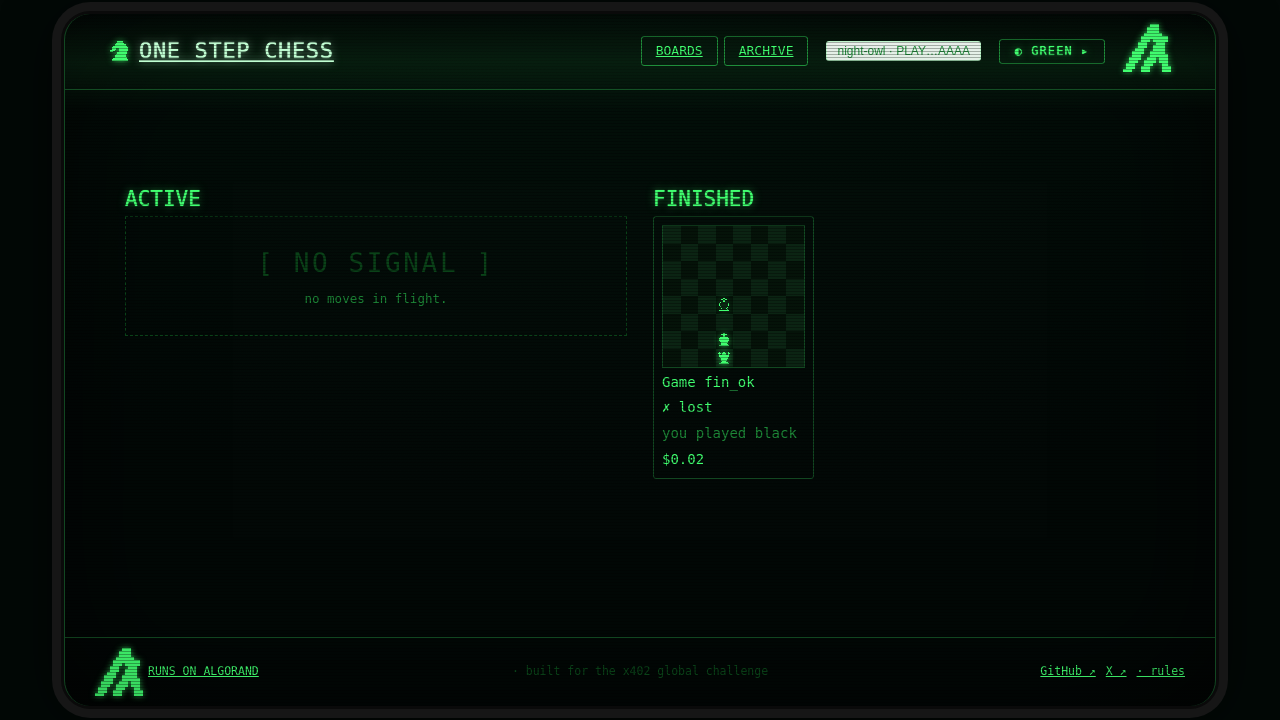
finished_archive_card_and_popover_identify_the_side_you_played
This screenshot has width=1280, height=720.
Click the button with test id "finished-card" at (733,348), box [653,216,814,479]
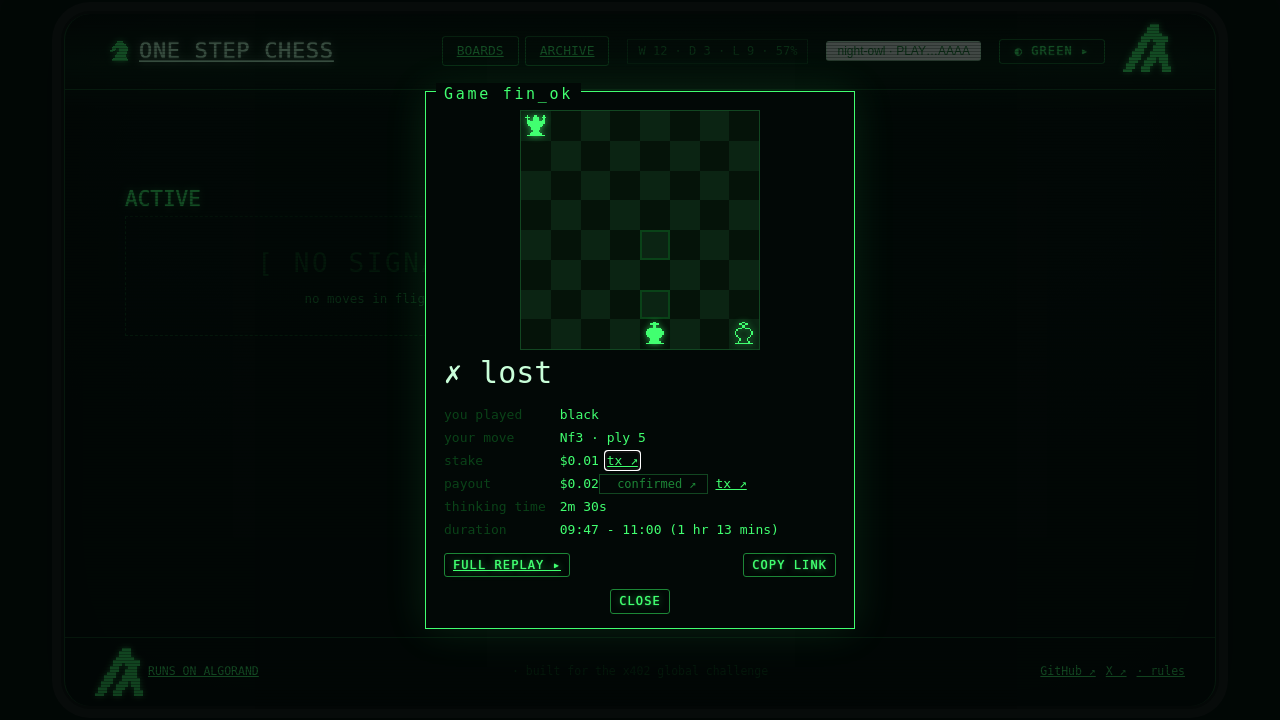
Expected: the text "black" is shown, [560,407,599,422]
